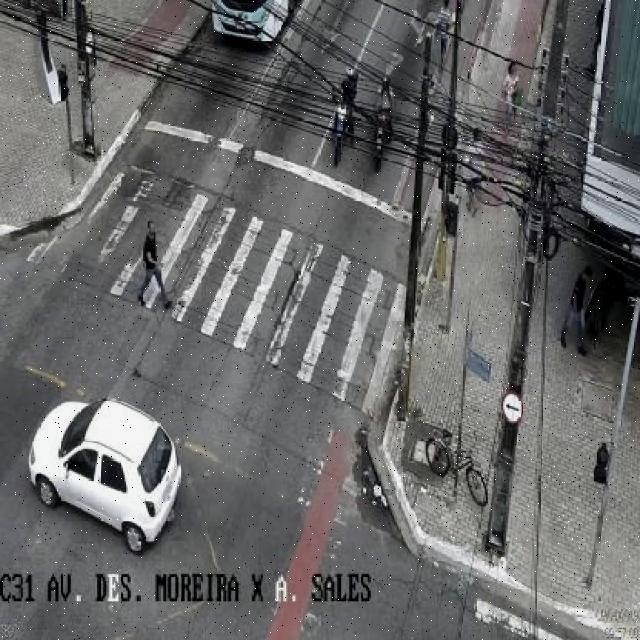Car: (19, 391, 190, 543), (178, 0, 289, 30)
Cycle: (313, 28, 380, 177), (369, 47, 420, 179)
